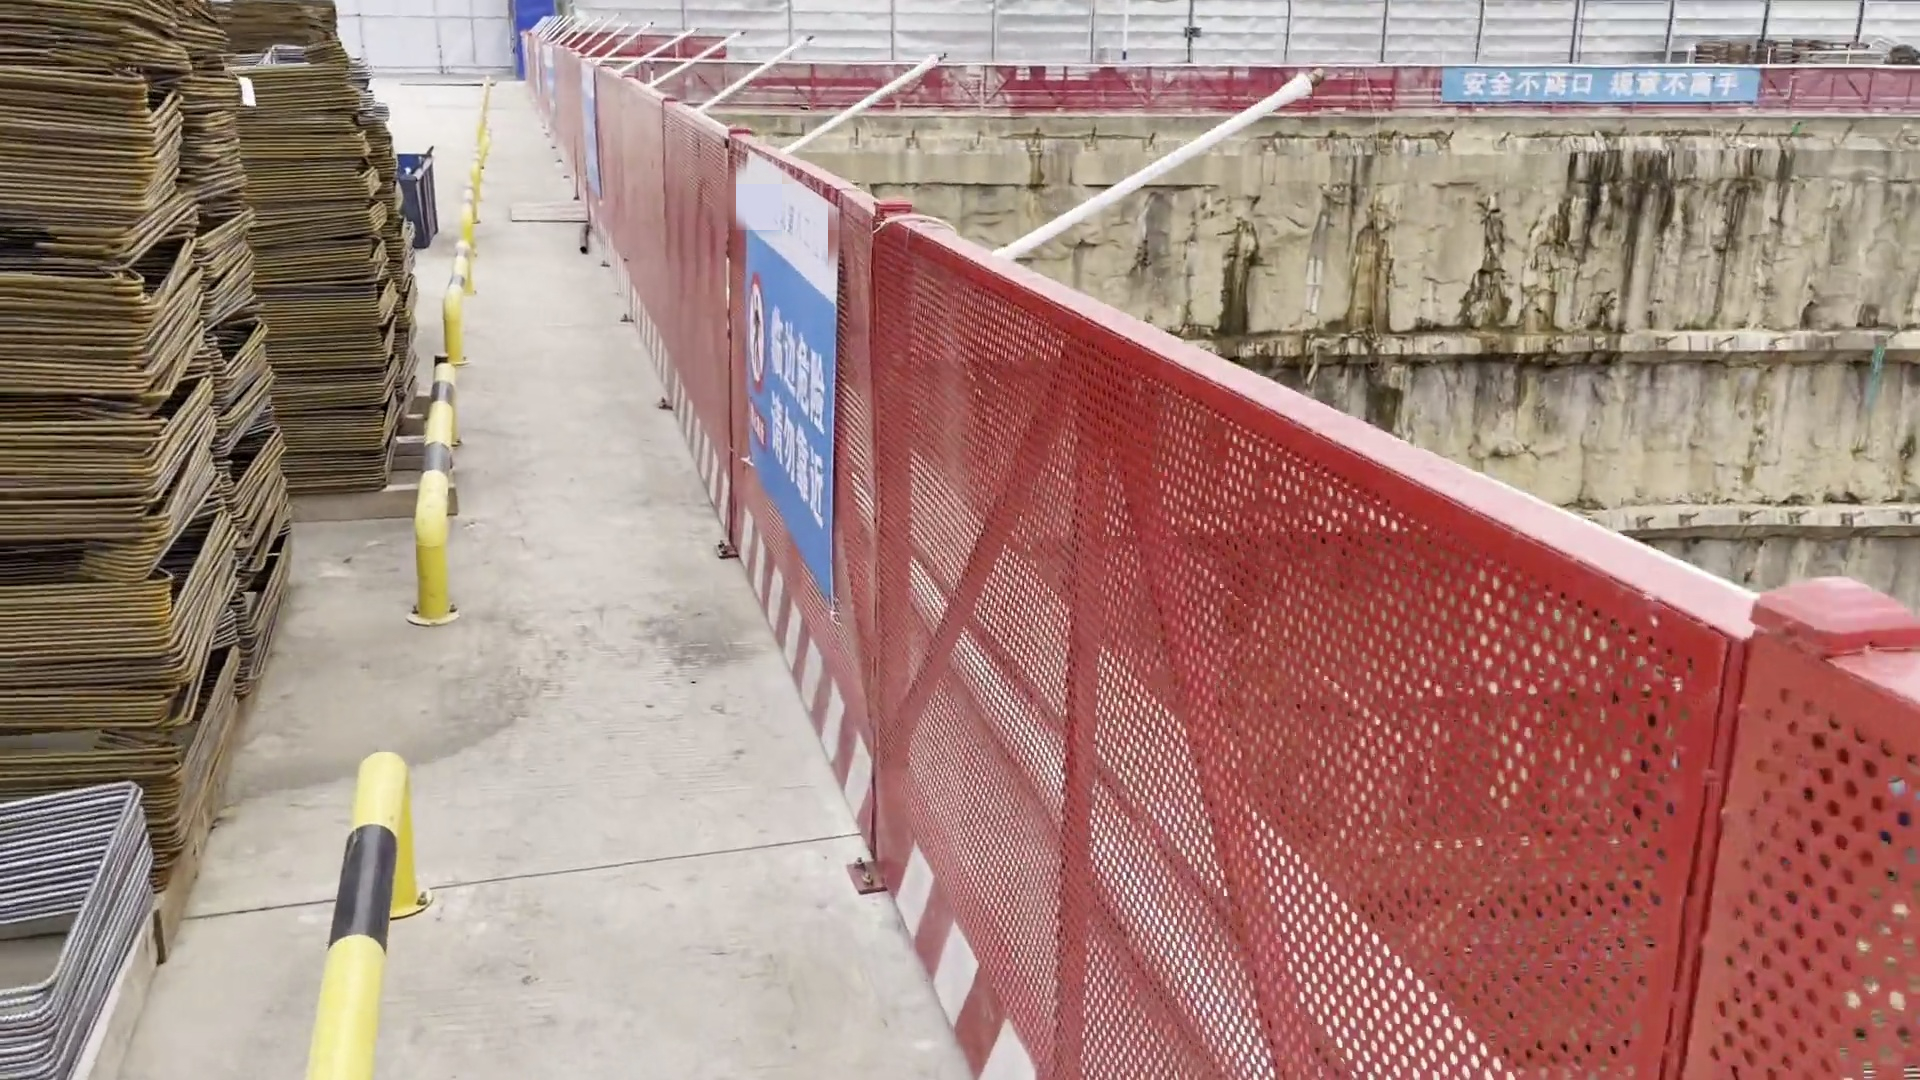fence: (1142, 311, 1920, 1080), (713, 135, 1143, 1080), (517, 32, 735, 516), (731, 57, 1920, 123)
hopper: (392, 135, 450, 245)
slogan: (694, 141, 880, 622), (1422, 61, 1788, 127), (560, 58, 615, 215)
